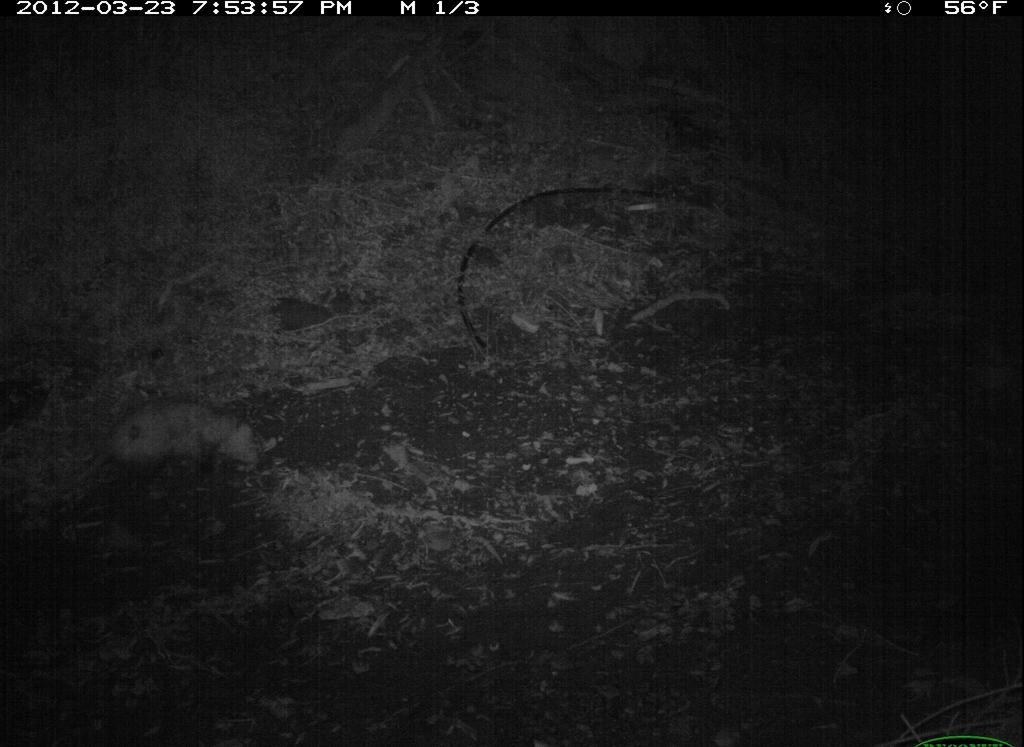opossum: (53, 391, 283, 520)
